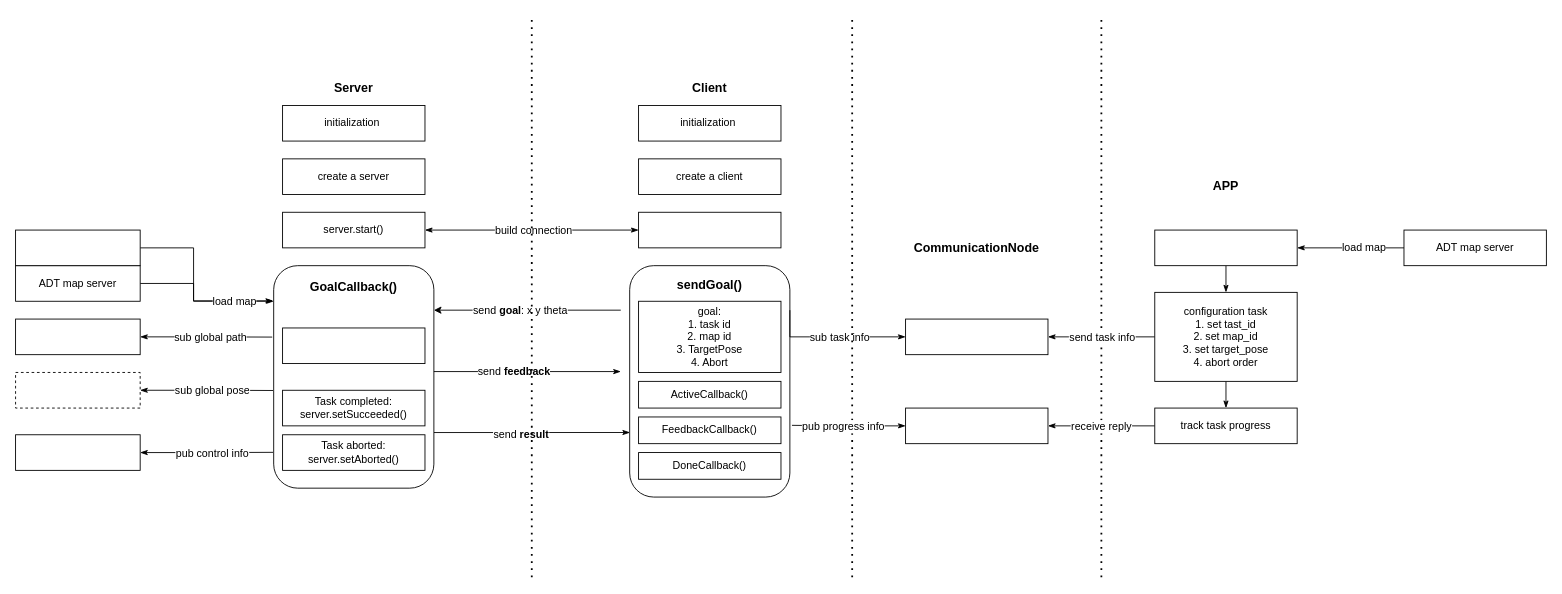
This 1562x594 diagram has some shape labels left out. The box of each missing label's shape, as (x1, y1, x2, y2) in pixels:
/follow_task_info: (905, 318, 1048, 355)
/ndt/current_pose for progress info: (15, 372, 140, 408)
/sweep_path: (15, 318, 140, 355)
/task_progress: (905, 407, 1048, 444)
/vehicle_cmd: (15, 434, 140, 470)
client.waitForServer(): (638, 211, 781, 248)
connect map server load map: (1154, 229, 1297, 266)
local map: (15, 229, 140, 266)
Task in progress: server.publishFeedback(): (282, 327, 425, 364)
